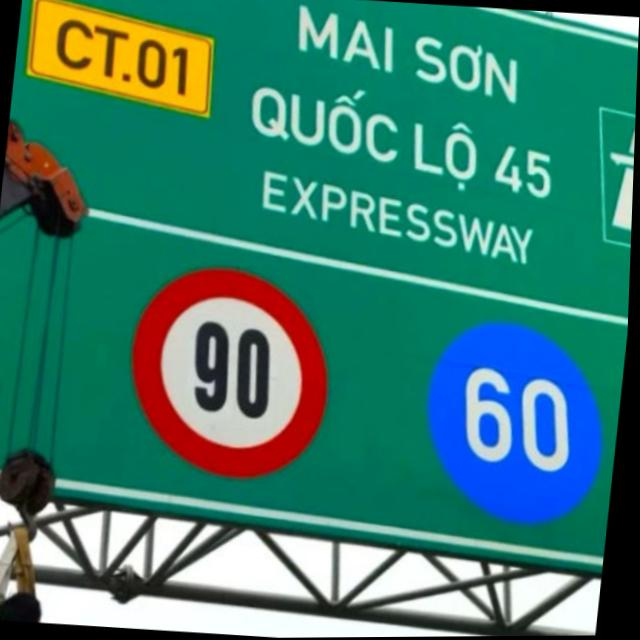Speed Limit -90-: (122, 261, 345, 487)
